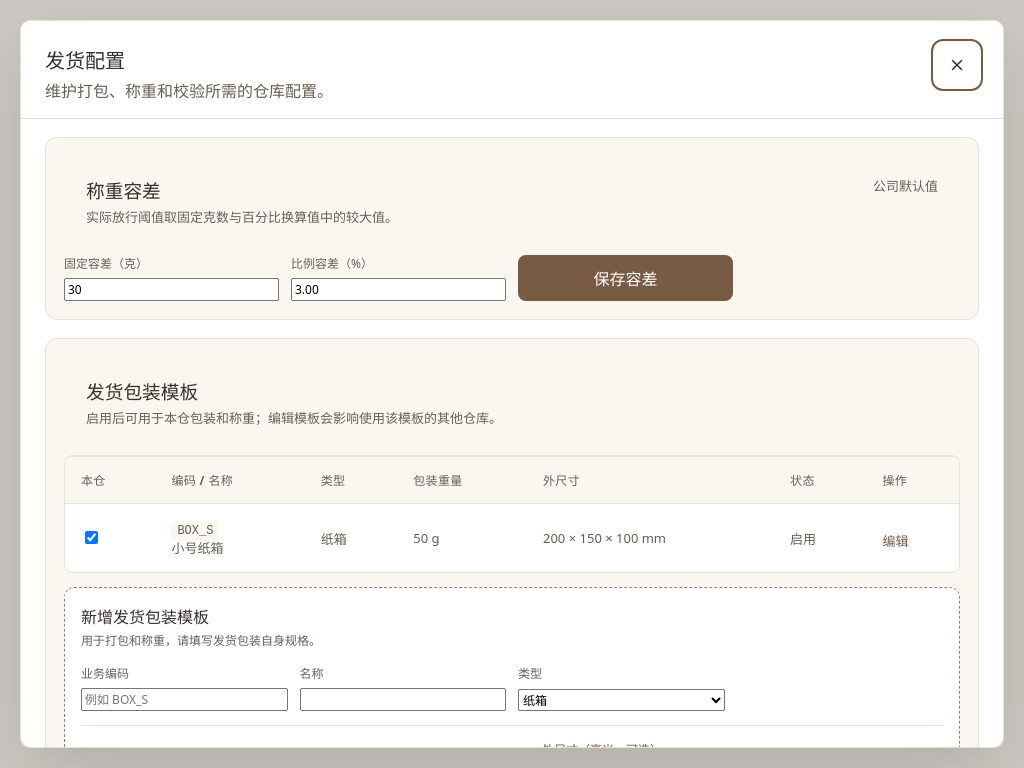
Test: ShippingConfigurationDialog › saves basis points exactly and updates warehouse packaging availability
Expected: the text "BOX_S" is shown, [171,520,219,540]
Replace the text in the field labelled "固定容差（克）" with "35" at (172, 290), box [64,278,279,301]
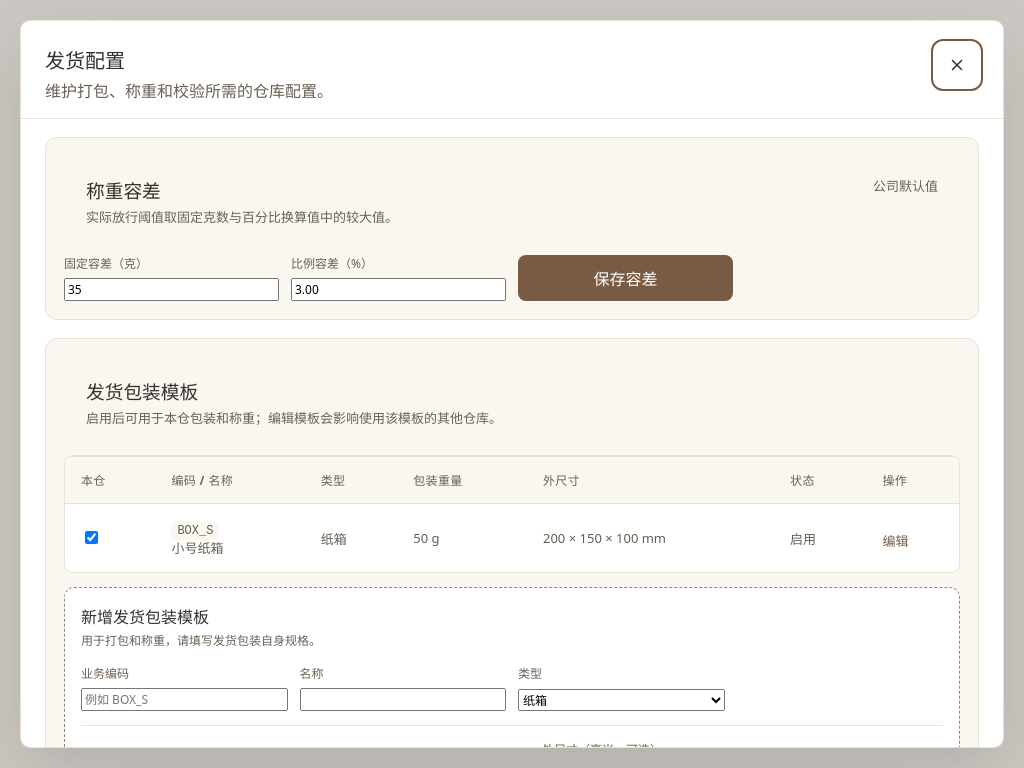
Replace the text in the field labelled "比例容差（%）" with "2.50" at (398, 290), box [291,278,506,301]
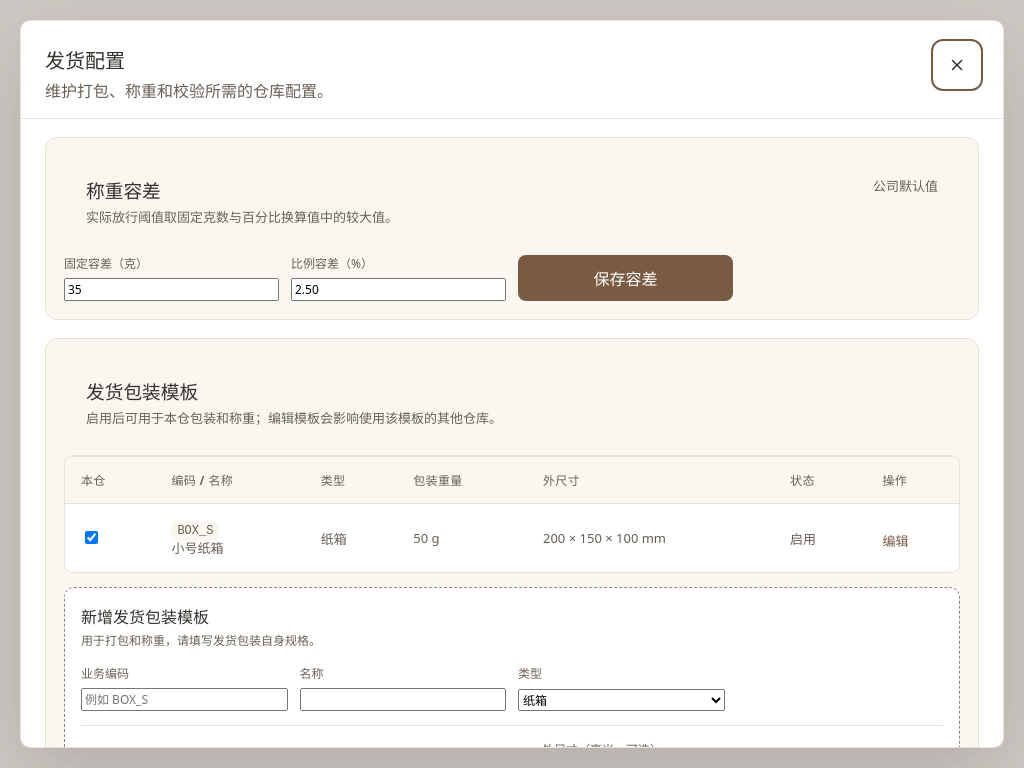
Click the button "保存容差" at (626, 278), box [518,255,733,301]
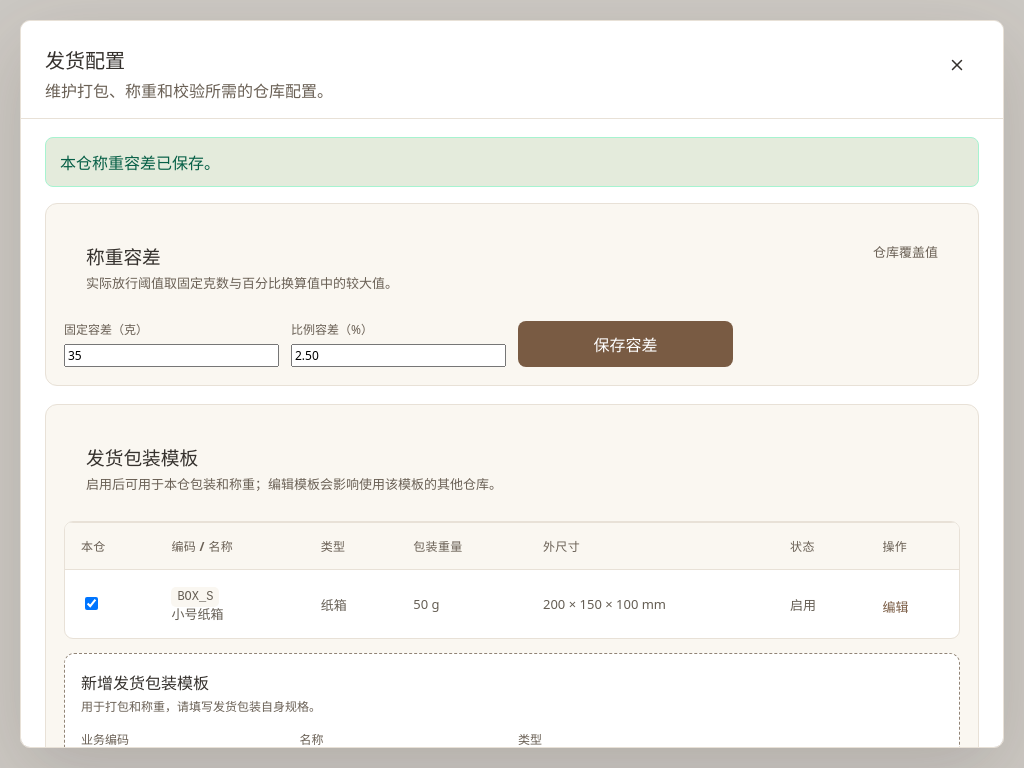
Result: the text "本仓称重容差已保存。" is shown at [45,137,979,187]
Click the checkbox named "小号纸箱在本仓启用" at (92, 604), box [85,597,98,610]
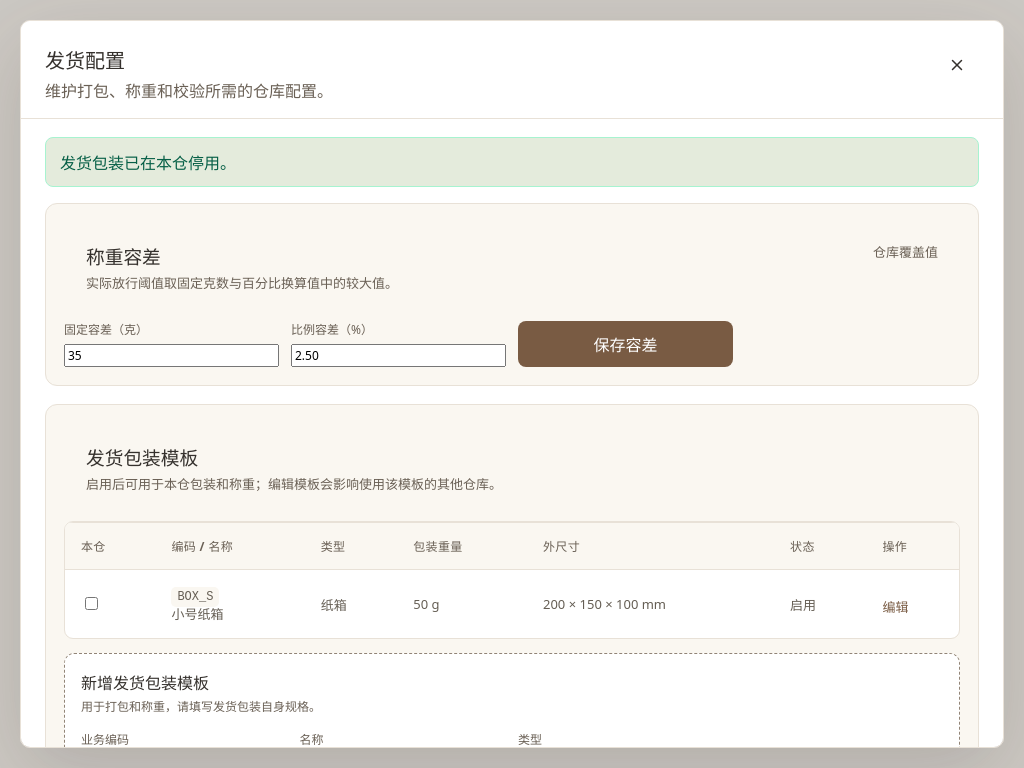
Result: the text "发货包装已在本仓停用。" is shown at [45,137,979,187]
